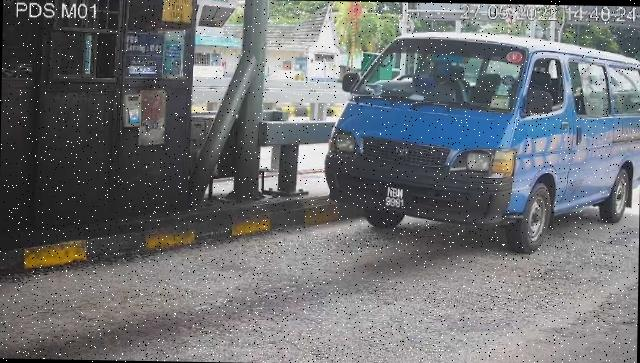License_Plate: (382, 183, 411, 214)
van: (325, 30, 640, 258)
